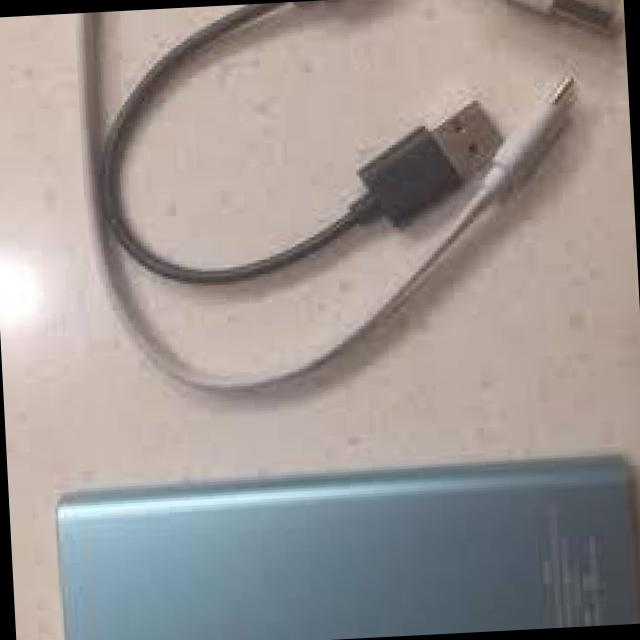portable-charger: (57, 454, 640, 640)
